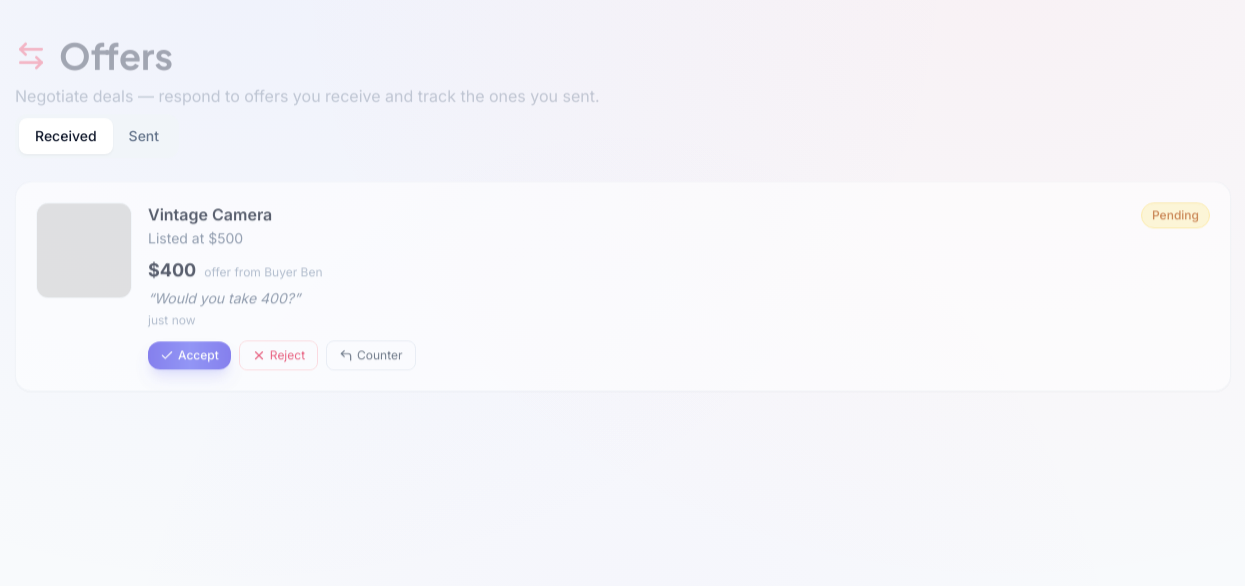
Scenario: Offers page › shows a Pay now action for an accepted sent offer
Expected: the link "Vintage Camera" is shown, [148, 202, 272, 226]
Click the button "Sent" at (144, 136), box [113, 118, 175, 154]
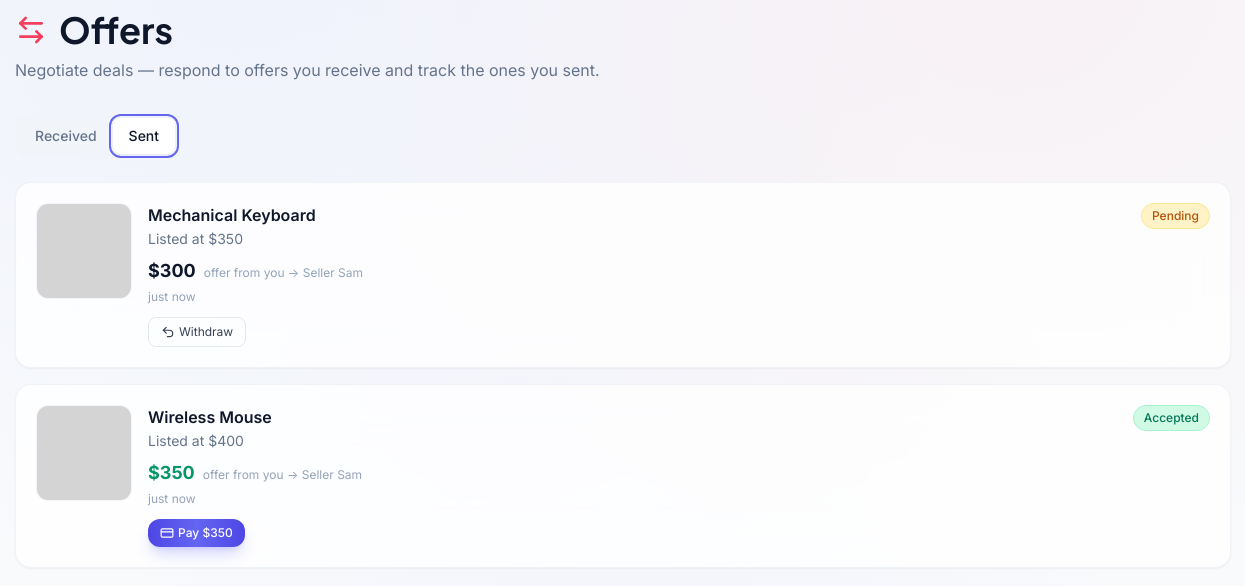
Expected: the link "Wireless Mouse" is shown, [148, 405, 272, 429]
Expected: the button "Pay $350" is shown, [148, 519, 245, 547]
Expected: the number of buttons "Withdraw" is 1, [148, 317, 246, 347]
